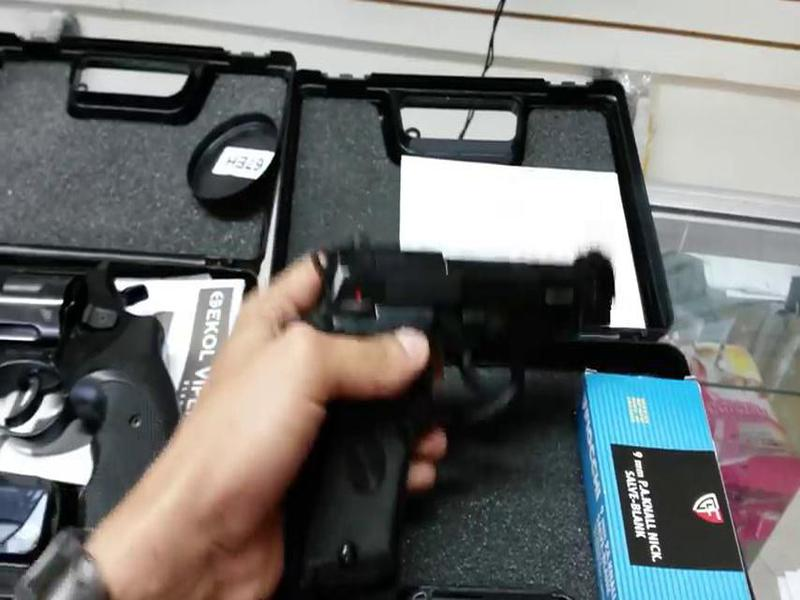Pistola: (280, 194, 620, 466)
